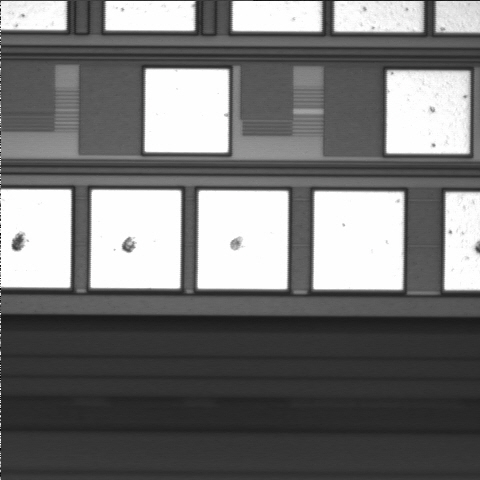pad: (313, 191, 404, 290), (91, 190, 181, 289), (198, 190, 288, 289), (145, 69, 229, 153), (386, 71, 469, 154)
